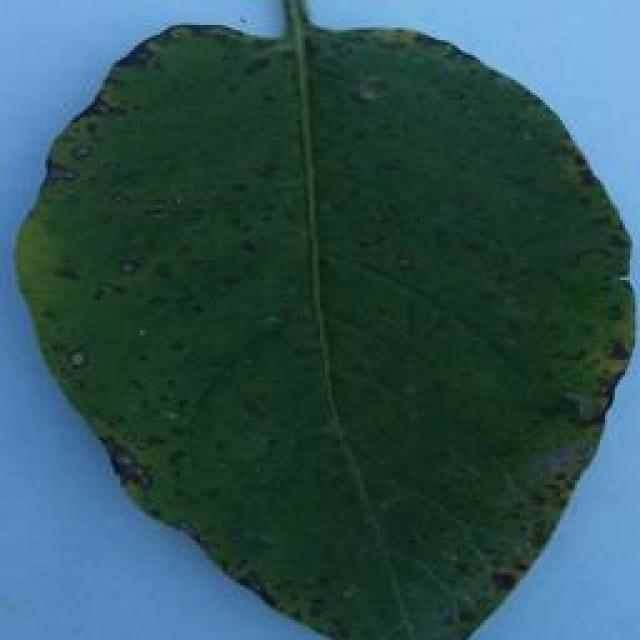Potato_Early_Blight: (20, 12, 640, 638)
